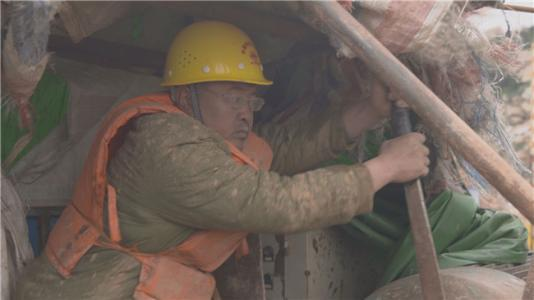helmet: (148, 15, 284, 149)
